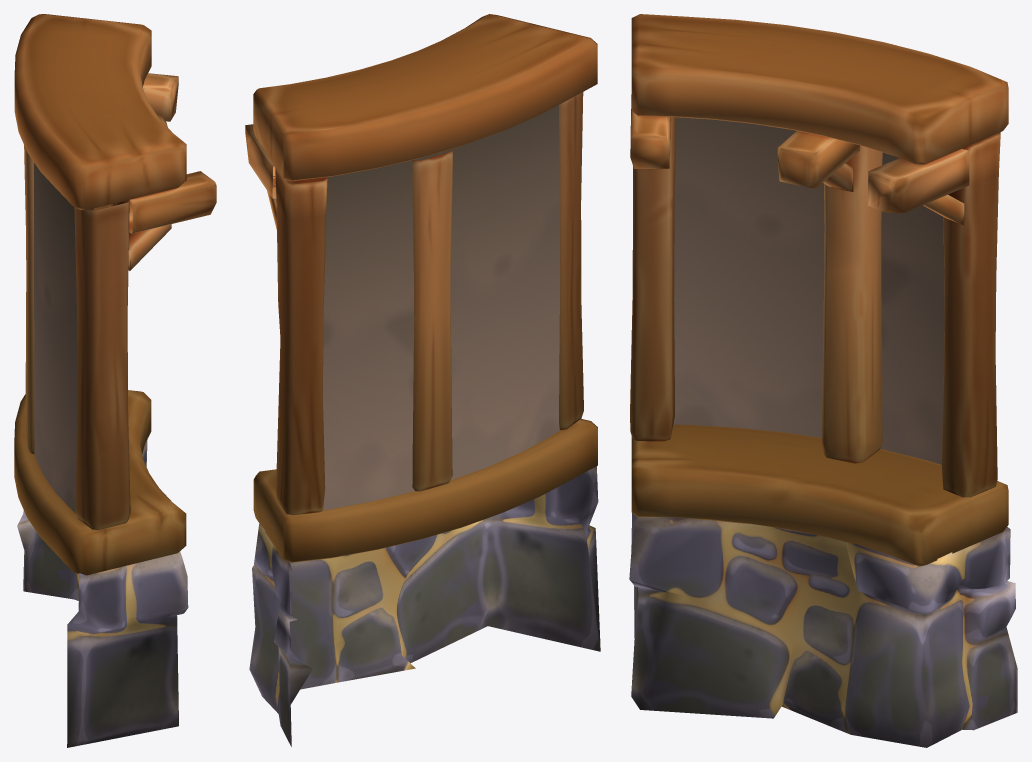
The model's file is Wall_Short.fbx.
3 renders of one model, left to right at view 1: azimuth 30°, elevation 25°; view 2: azimuth 150°, elevation 25°; view 3: azimuth 270°, elevation 25°, orthographic. The views are drawn at different scales.
Parts seen in each view (by area): view 1: Wood, U_Wall_Short, Wall; view 2: Wood, Wall, U_Wall_Short; view 3: Wood, U_Wall_Short, Wall.
Boxes of the visible parts, bbox=[...] form: Wood: bbox=[14, 14, 216, 575]; U_Wall_Short: bbox=[17, 439, 188, 747]; Wall: bbox=[34, 162, 93, 513]; Wood: bbox=[245, 14, 597, 562]; Wall: bbox=[323, 105, 559, 510]; U_Wall_Short: bbox=[249, 466, 600, 746]; Wood: bbox=[630, 14, 1008, 566]; U_Wall_Short: bbox=[629, 513, 1017, 747]; Wall: bbox=[673, 117, 944, 464].
Size of the model in its own units: 170 by 421 by 231.
3 materials, 3 textured.
